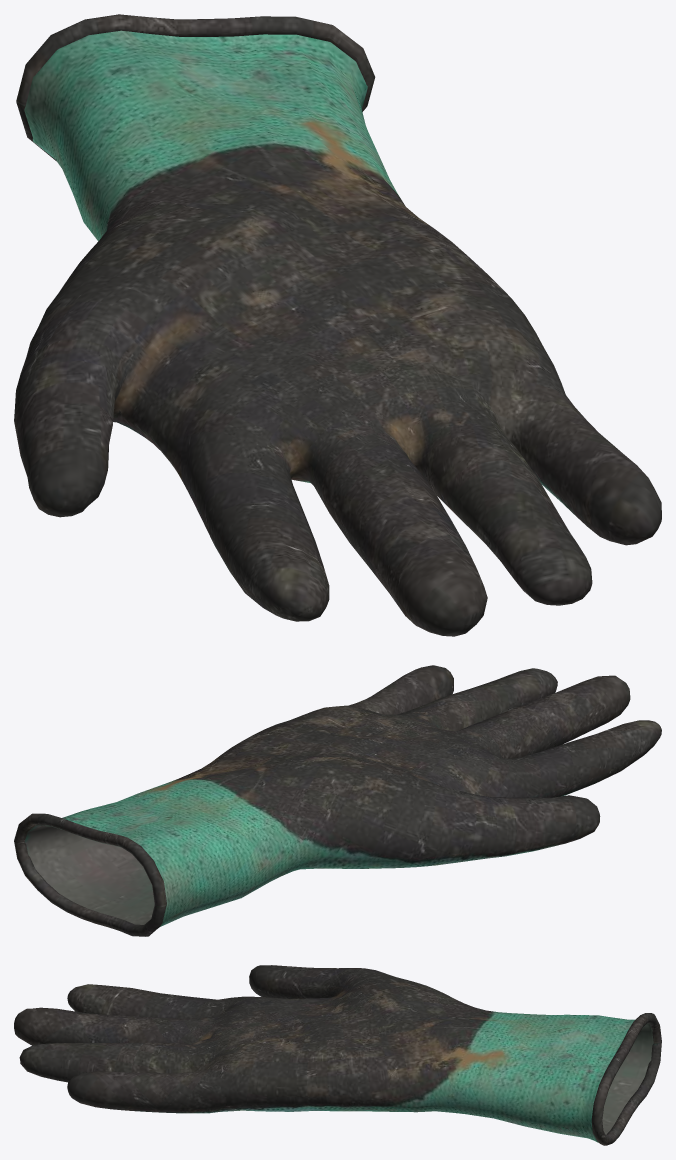
Rendered from Gloves.fbx.
3 renders of one model, top to bottom at view 1: azimuth 30°, elevation 25°; view 2: azimuth 150°, elevation 25°; view 3: azimuth 270°, elevation 25°, orthographic. The views are drawn at different scales.
Parts seen in each view (by area): view 1: garden_gloves_01; view 2: garden_gloves_01; view 3: garden_gloves_01.
Boxes of the visible parts, x1,y1,x2,y2 form: garden_gloves_01: [14, 14, 661, 636]; garden_gloves_01: [14, 665, 661, 936]; garden_gloves_01: [14, 965, 661, 1145].
Bounding box in the file's own units: 0.0811 × 0.0203 × 0.1307.
1 material, 1 textured.
